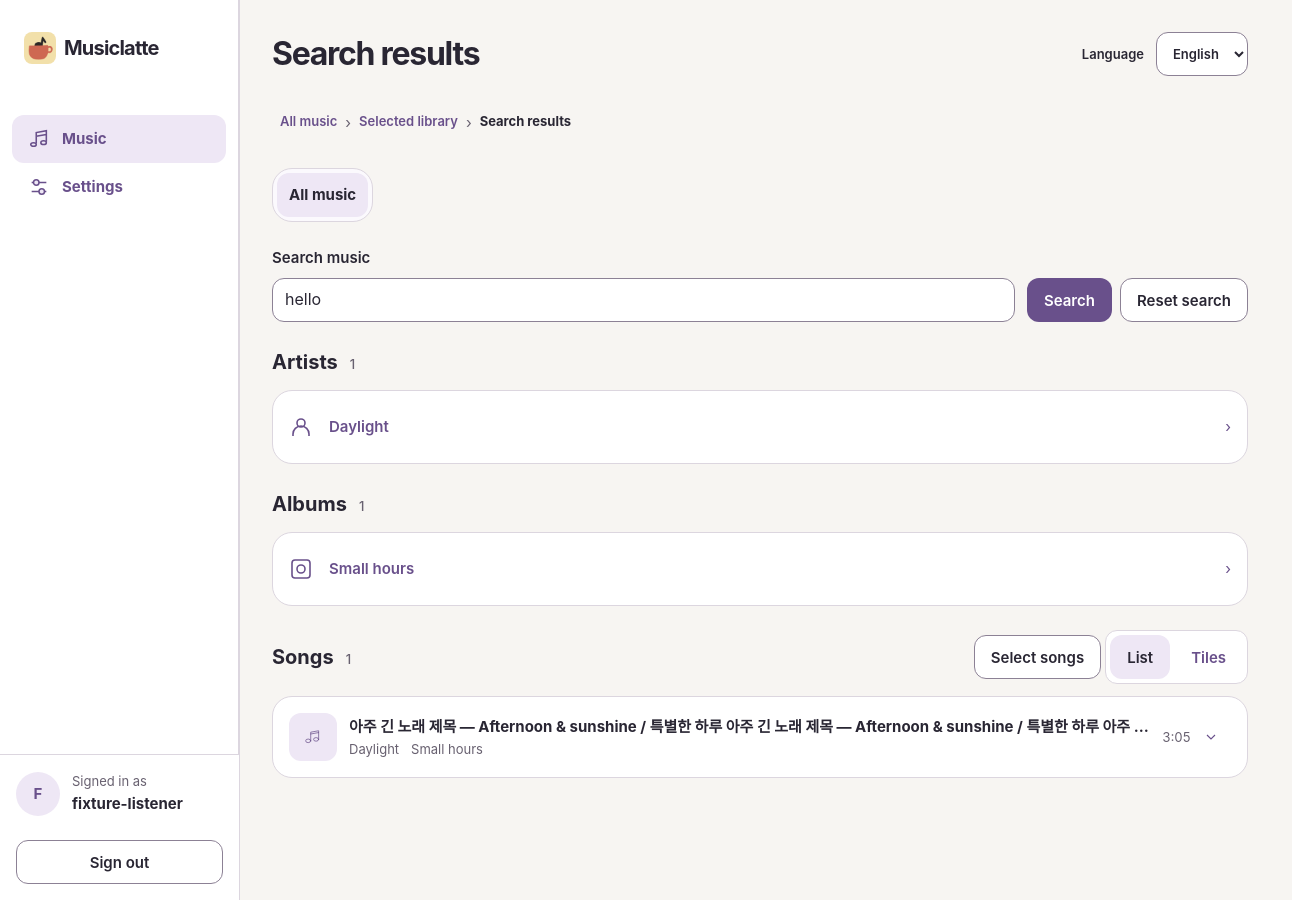
it: library regression boundaries › should fall back from an unsafe search origin without blocking results
The image size is (1292, 900).
Click the button "Reset search": click(1184, 300) 1120,278 -> 1248,322
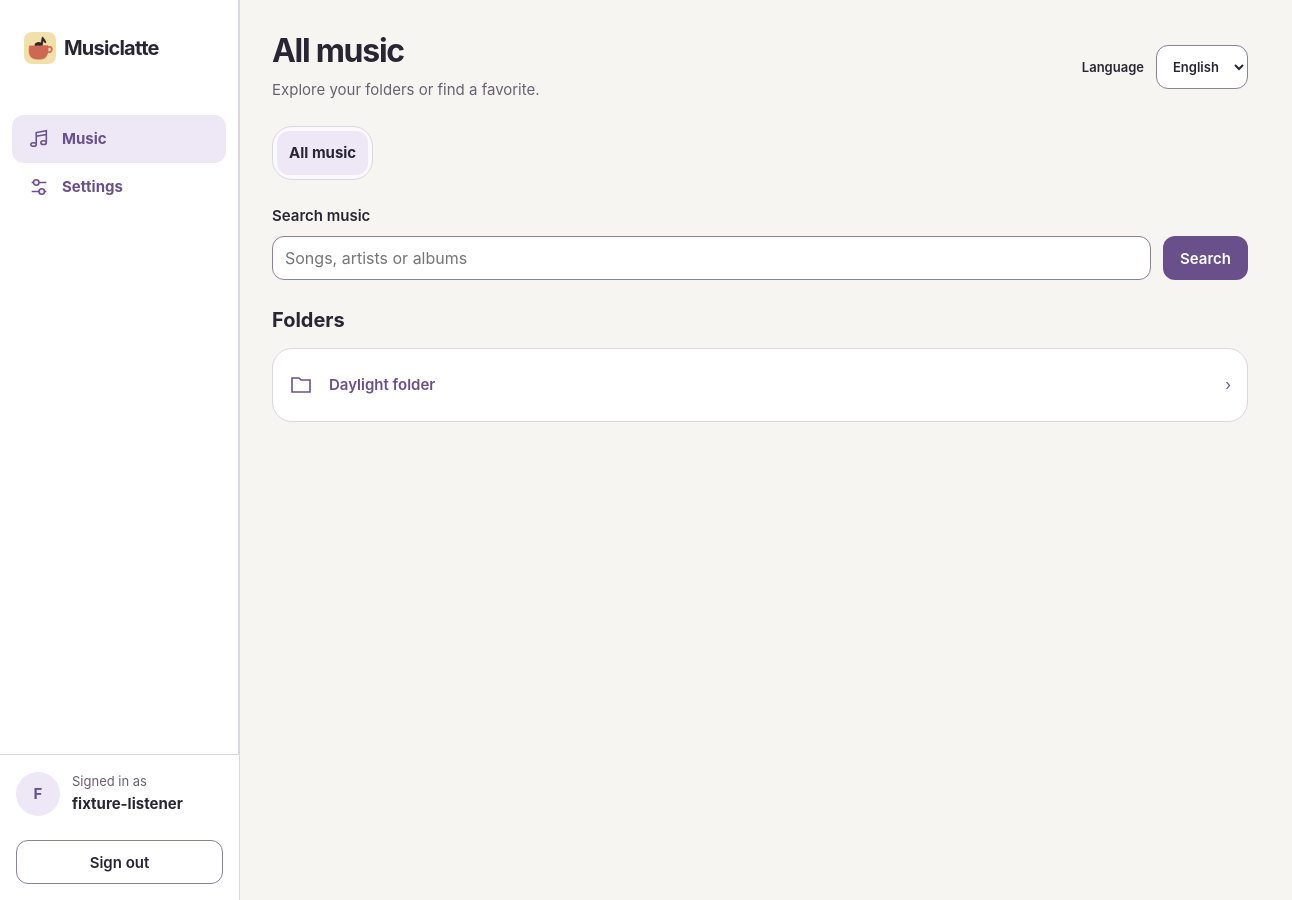
expect the heading "All music" is shown: met, box 272,31 -> 404,70
